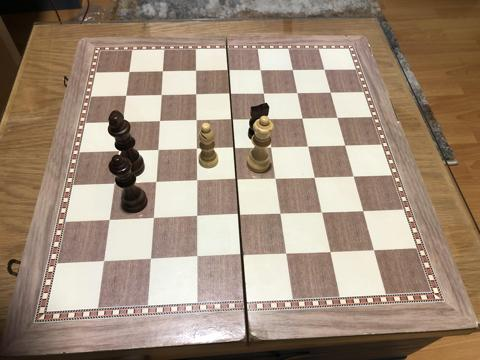xcorner: (189, 144, 202, 157), (144, 254, 157, 267), (221, 66, 234, 78), (223, 89, 235, 102), (347, 171, 360, 183), (324, 247, 337, 259), (190, 252, 202, 265), (98, 256, 110, 269), (317, 64, 329, 76), (286, 65, 298, 77), (254, 66, 266, 78), (189, 67, 201, 79), (156, 68, 168, 80), (123, 69, 135, 81), (324, 87, 336, 99), (291, 88, 303, 100), (257, 89, 269, 101), (189, 90, 201, 102), (155, 91, 167, 103), (120, 92, 132, 104), (331, 112, 343, 124), (296, 113, 308, 125), (261, 114, 273, 126), (225, 115, 237, 127), (189, 116, 201, 128), (153, 117, 165, 129), (117, 118, 129, 130), (339, 140, 351, 152), (302, 141, 314, 153), (265, 142, 277, 154), (227, 143, 239, 155), (151, 146, 163, 158), (113, 147, 125, 159), (309, 172, 321, 184), (269, 174, 281, 186), (230, 175, 242, 187), (190, 176, 202, 188), (149, 178, 161, 190), (109, 179, 121, 191), (357, 206, 369, 218), (316, 207, 328, 219), (274, 209, 286, 221), (232, 210, 244, 222), (190, 212, 202, 224), (147, 214, 159, 226), (104, 215, 116, 227), (368, 245, 380, 257), (280, 249, 292, 261), (235, 251, 247, 263)
